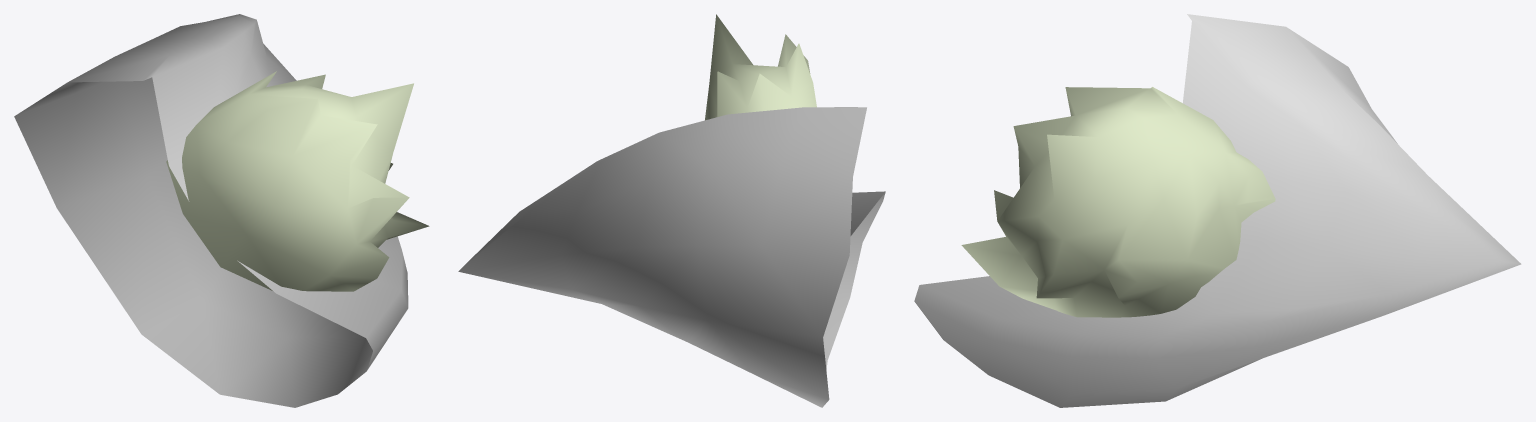
The model's file is Model_ET_TriS_0.fbx.
3 renders of one model, left to right at view 1: azimuth 30°, elevation 25°; view 2: azimuth 150°, elevation 25°; view 3: azimuth 270°, elevation 25°, orthographic. The views are drawn at different scales.
Parts seen in each view (by area): view 1: TopEar1; view 2: TopEar1; view 3: TopEar1.
Part boxes in pixels (x1=…): TopEar1: x1=14, y1=14, x2=429, y2=407; TopEar1: x1=458, y1=14, x2=885, y2=407; TopEar1: x1=914, y1=14, x2=1521, y2=407.
Size of the model in its own units: 98.64 by 97.68 by 152.
